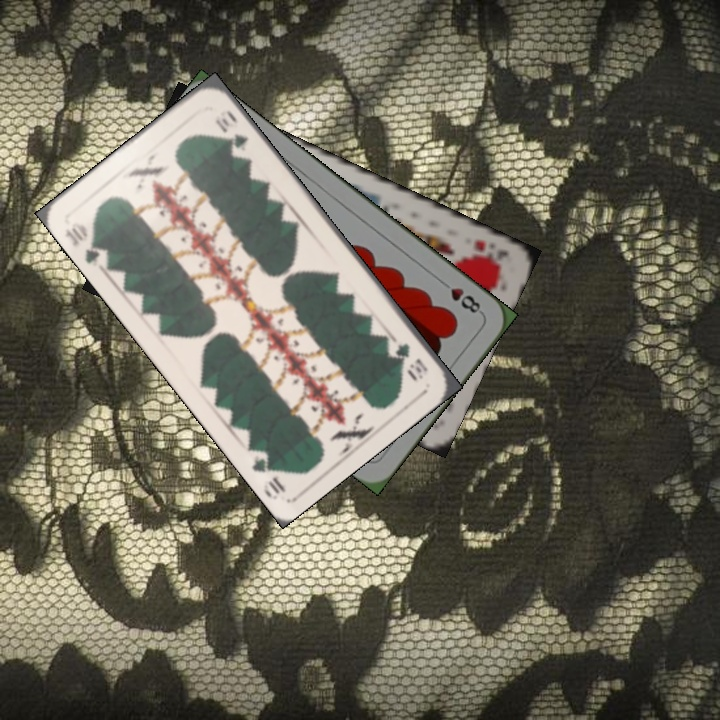G10: (61, 218, 111, 270), (390, 339, 431, 382)
H8: (435, 276, 486, 317)
HK: (468, 235, 511, 269)
